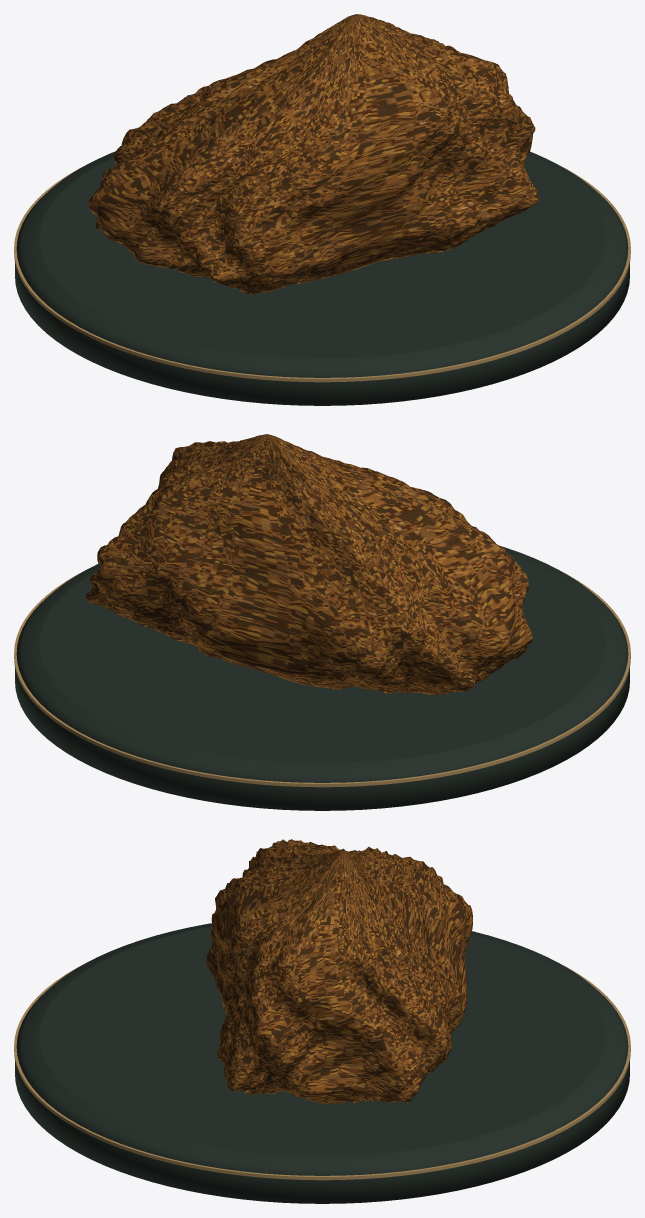
The model's file is lingstone-concept-09-v191-6f7a48e98e2f.glb.
The picture shows the model from 3 angles, top to bottom: view 1: azimuth 30°, elevation 25°; view 2: azimuth 150°, elevation 25°; view 3: azimuth 270°, elevation 25°; orthographic projection.
Parts seen in each view (by area): view 1: XY-CONCEPT-009 concept stone, Centered beveled display plinth, Champagne gold edge; view 2: Centered beveled display plinth, XY-CONCEPT-009 concept stone, Champagne gold edge; view 3: Centered beveled display plinth, XY-CONCEPT-009 concept stone, Champagne gold edge.
Part boxes in pixels (x1,y1,x2,y2): XY-CONCEPT-009 concept stone: (88,14,538,294); Centered beveled display plinth: (15,151,629,405); Champagne gold edge: (14,168,630,382); Centered beveled display plinth: (15,546,629,810); XY-CONCEPT-009 concept stone: (86,434,532,695); Champagne gold edge: (14,573,630,787); Centered beveled display plinth: (15,923,629,1203); XY-CONCEPT-009 concept stone: (206,839,472,1103); Champagne gold edge: (14,966,630,1180).
Size of the model in its own units: 2.63 by 1.16 by 2.63.
3 materials, 1 textured.
